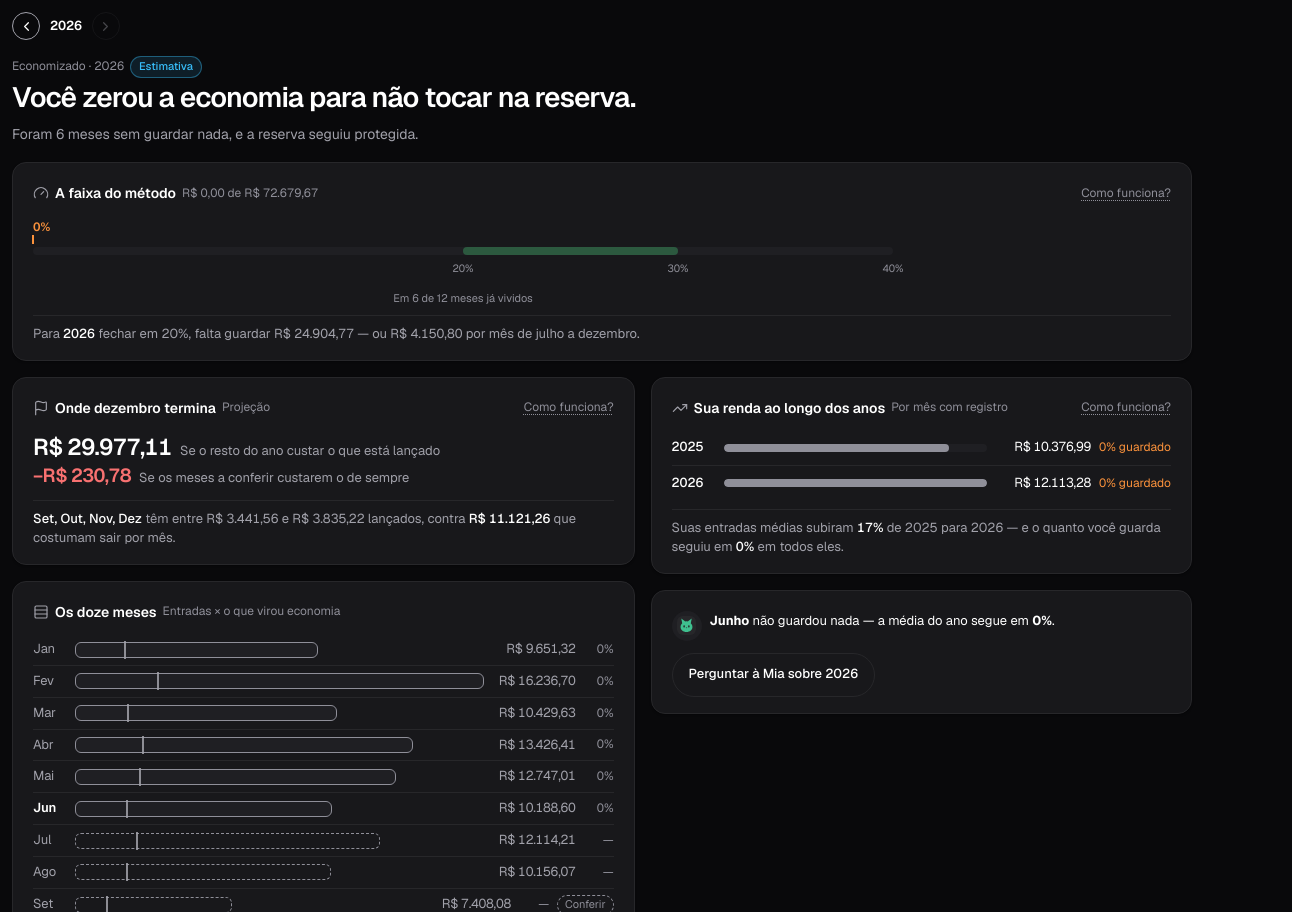
Scenario: AnnualScreen — direção Conversa com a Mia › zero por escolha: a troca certa deixa o herói e passa a viver no popover da faixa
Check: the heading "Você zerou a economia para não tocar na reserva." is shown, box x1=12 y1=79 x2=636 y2=115
Check: the text "Foram 6 meses sem guardar nada, e a reserva seguiu protegida." is shown, box x1=12 y1=125 x2=418 y2=143
Click the button with aria-label "Como funciona? — A faixa do método": (1126, 193) x1=1081 y1=184 x2=1171 y2=202
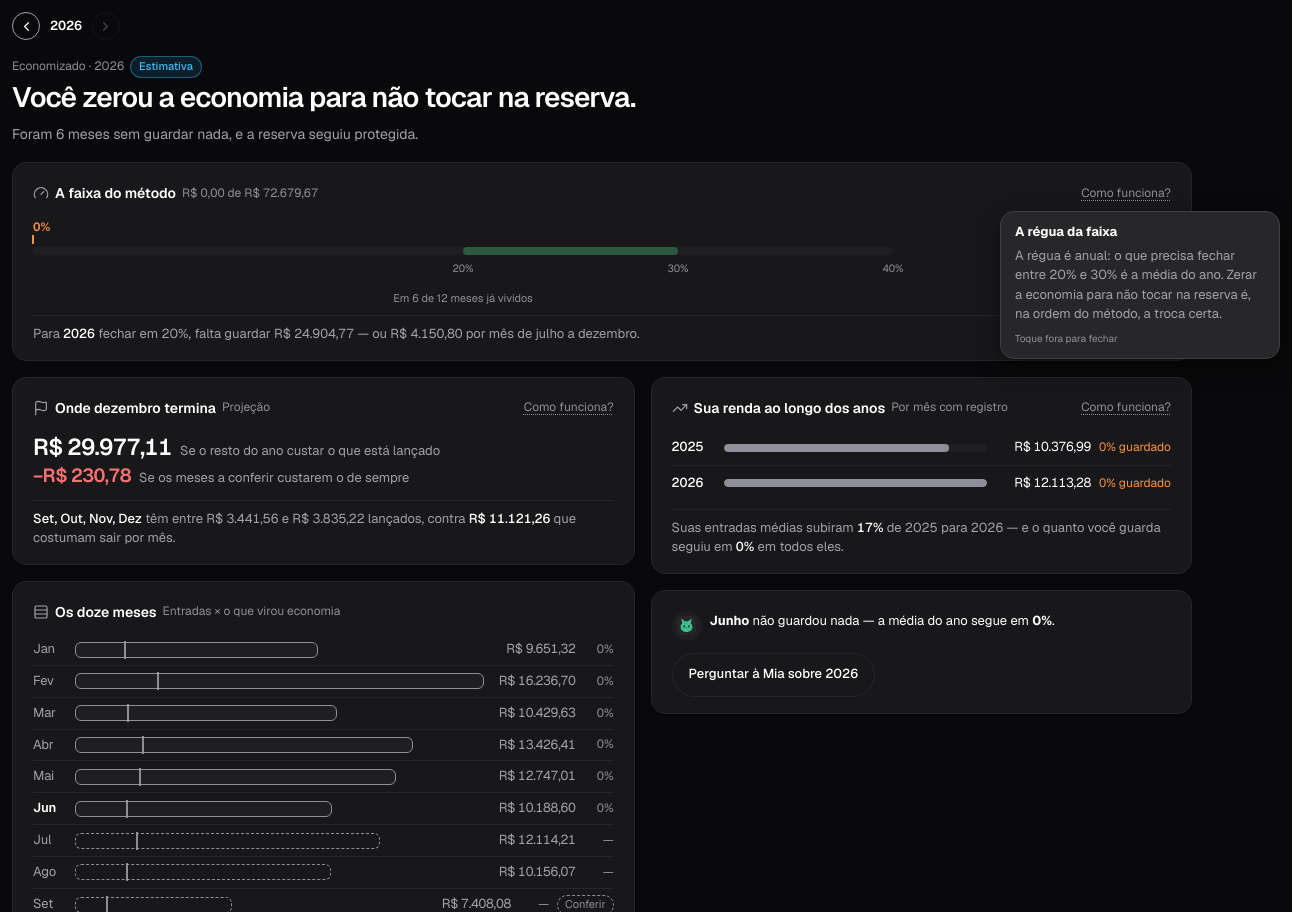
Check: the tooltip shows "na ordem do método, a troca certa", box x1=1015 y1=246 x2=1257 y2=322
